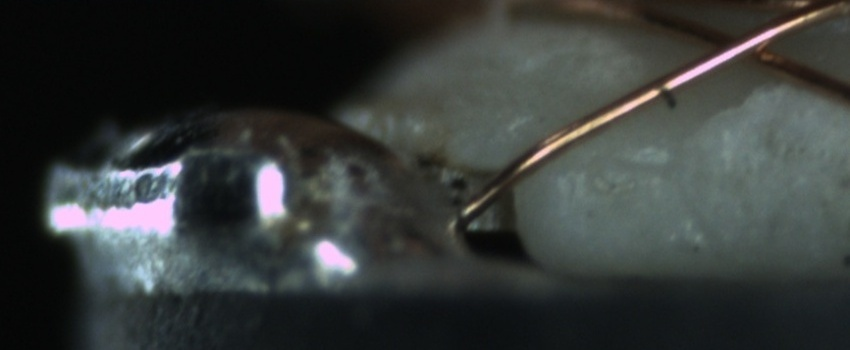CL: (690, 17, 795, 75)
DL: (563, 139, 695, 195)
